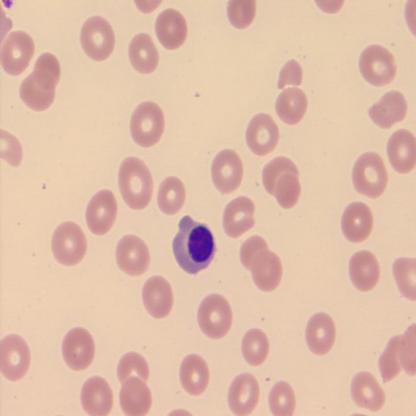NRC: (171, 212, 218, 277)
